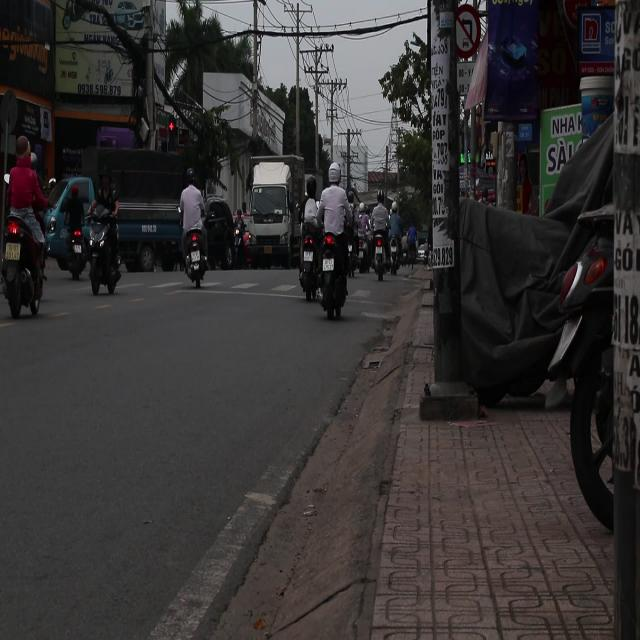motorbike: (1, 204, 48, 318), (313, 222, 349, 316), (84, 210, 123, 296), (298, 199, 325, 304), (183, 225, 209, 288), (232, 220, 254, 271)
truck: (86, 148, 186, 274), (249, 158, 306, 269)
